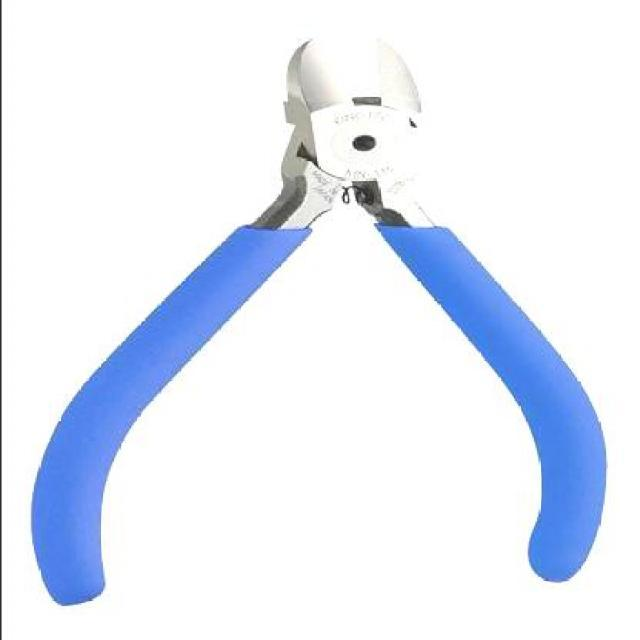pliers: (23, 31, 608, 607)
